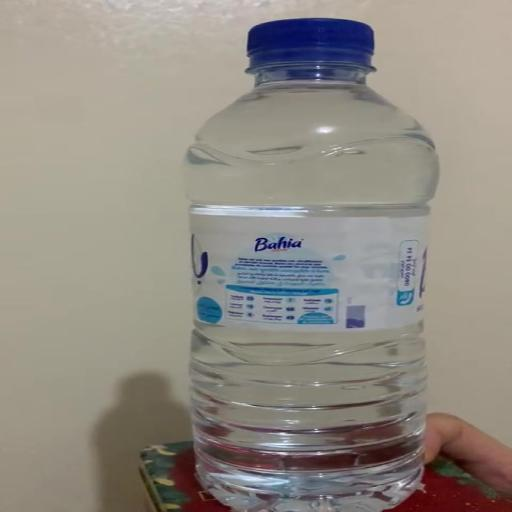bouteille conformite: (192, 19, 436, 511)
